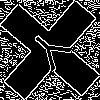Y: (25, 25, 81, 80)
